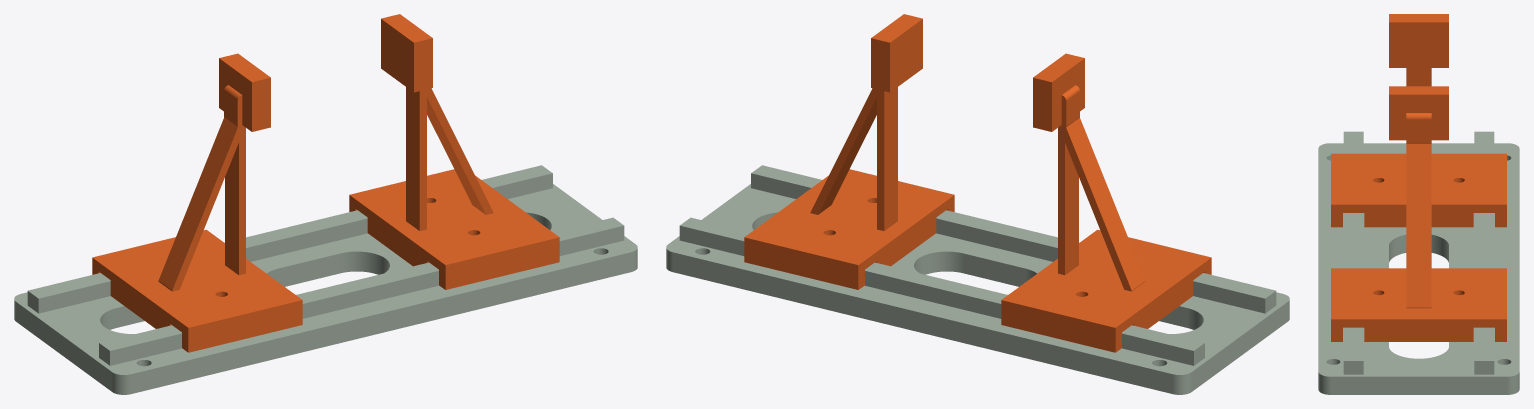
3 views of the same model, side by side, from view 1: azimuth 30°, elevation 25°; view 2: azimuth 150°, elevation 25°; view 3: azimuth 270°, elevation 25° (orthographic). The views are drawn at different scales.
Parts seen in each view (by area): view 1: base, left, right; view 2: base, left, right; view 3: base, right, left.
Boxes of the visible parts, bbox=[...] form: base: bbox=[14, 165, 637, 394]; left: bbox=[92, 53, 302, 352]; right: bbox=[349, 14, 559, 289]; base: bbox=[666, 165, 1289, 394]; left: bbox=[1001, 53, 1211, 352]; right: bbox=[744, 14, 954, 289]; base: bbox=[1318, 131, 1519, 394]; right: bbox=[1331, 86, 1506, 341]; left: bbox=[1331, 14, 1506, 227].
Size of the model in its own units: 220 by 98.3 by 80.
